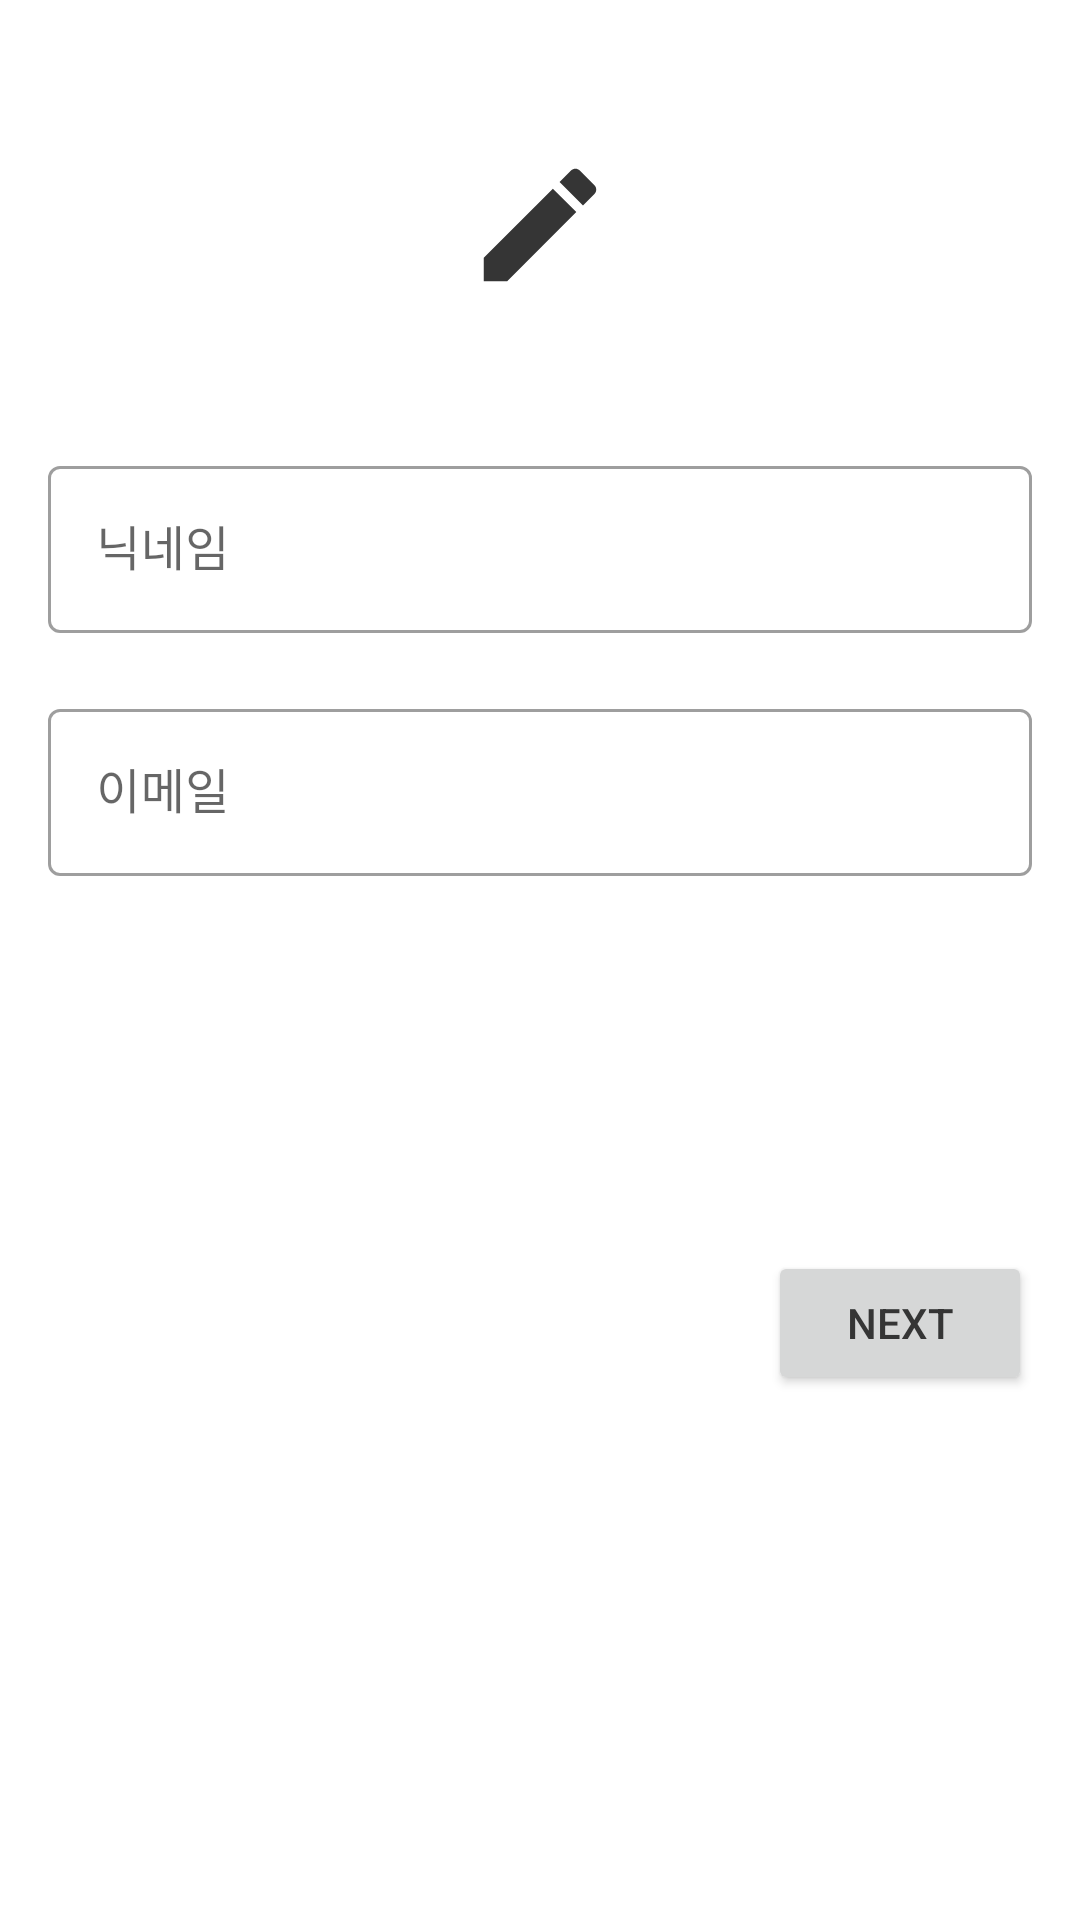

Point at icon controls on the screen. Image size 1080*1920, points as (x,y).
edit: (540,225)
